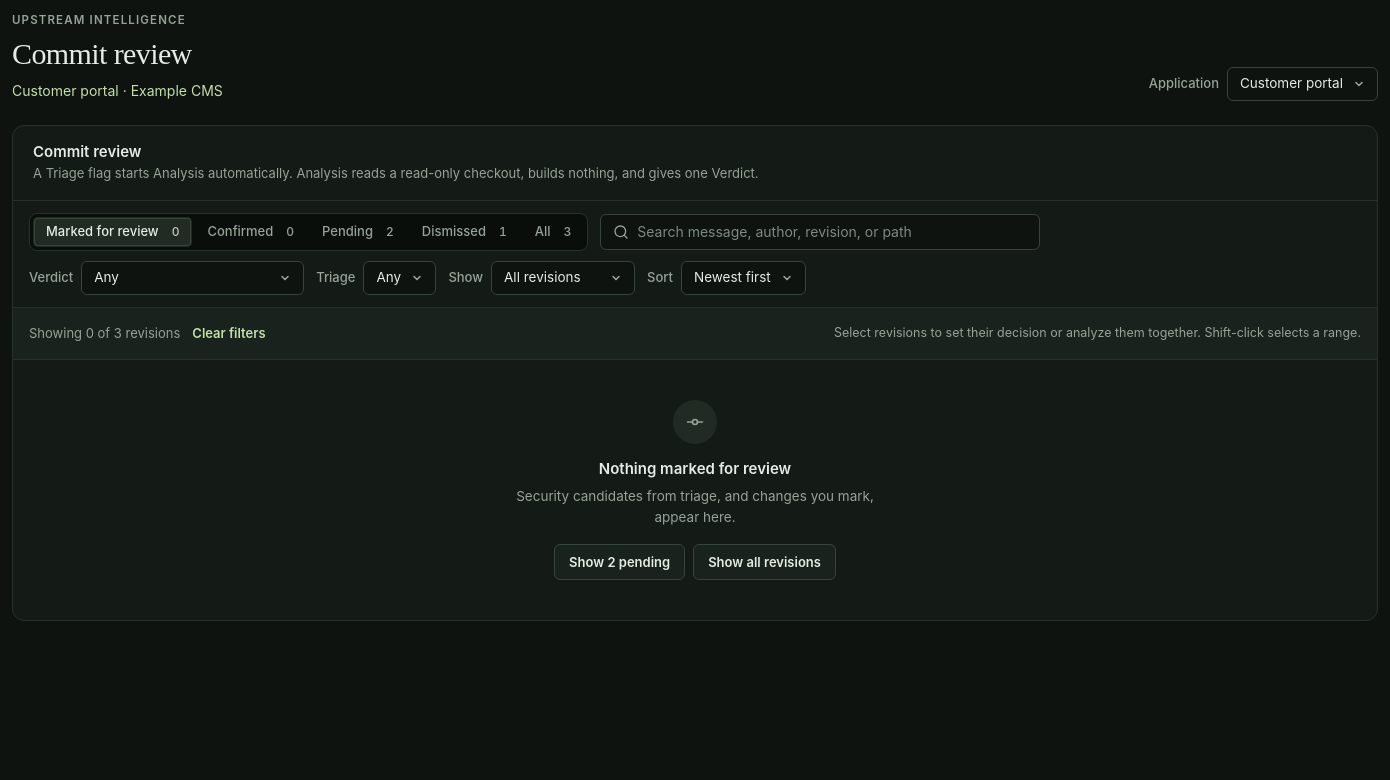
Test: filters to the Review queue: Insufficient context Verdicts still pending
The width and height of the screenshot is (1390, 780).
Select "Review queue" in the dropdown labelled "Show": (563, 278) [491,261,635,295]
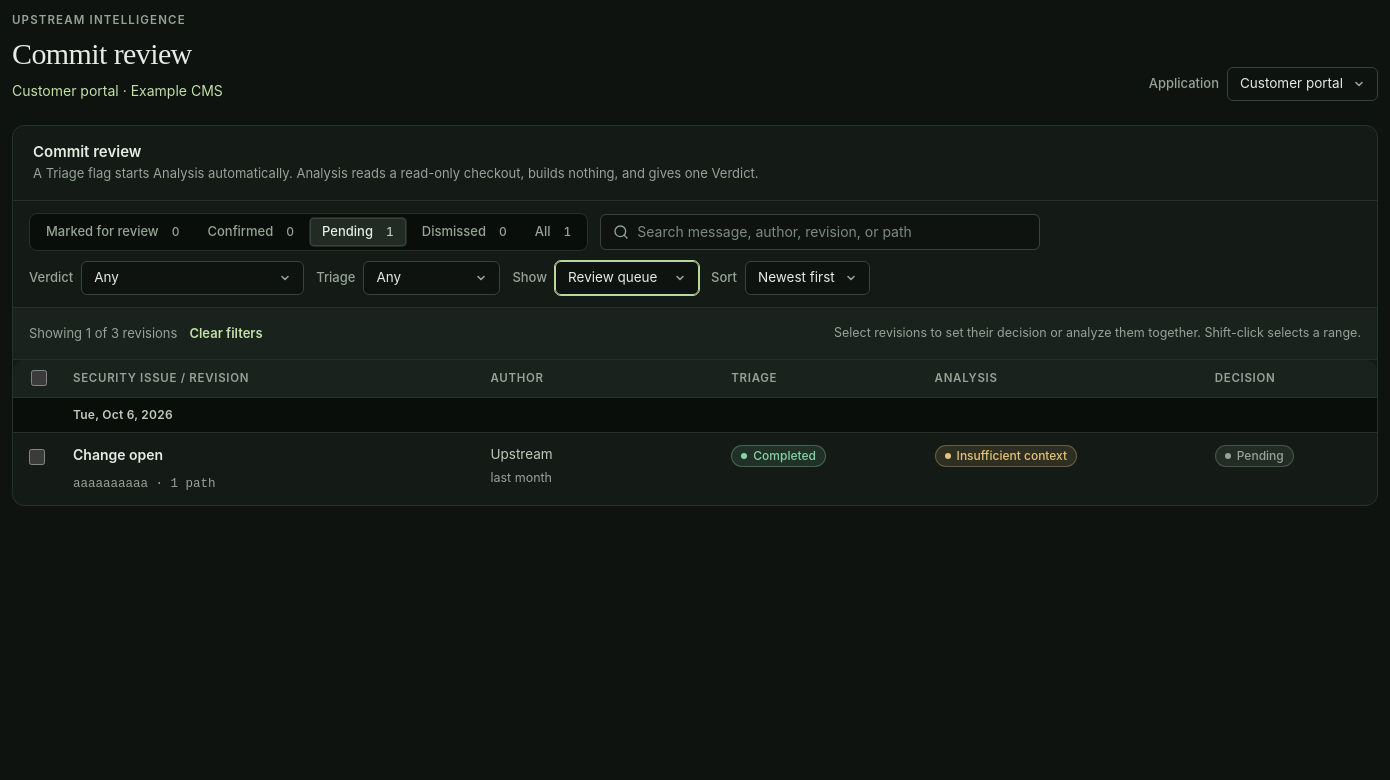
Check: the checkbox named "Select Change open" is shown, box [29,449,45,465]
